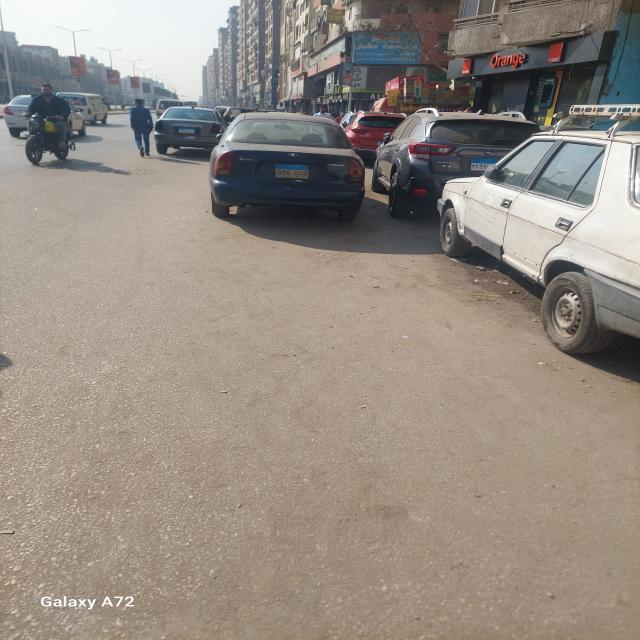car-plate: (278, 165, 308, 178), (179, 128, 195, 134)
